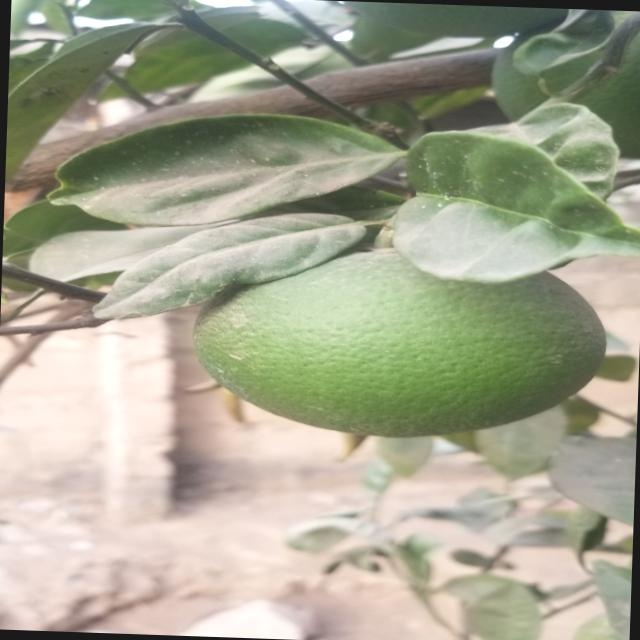agrume: (195, 255, 602, 437)
